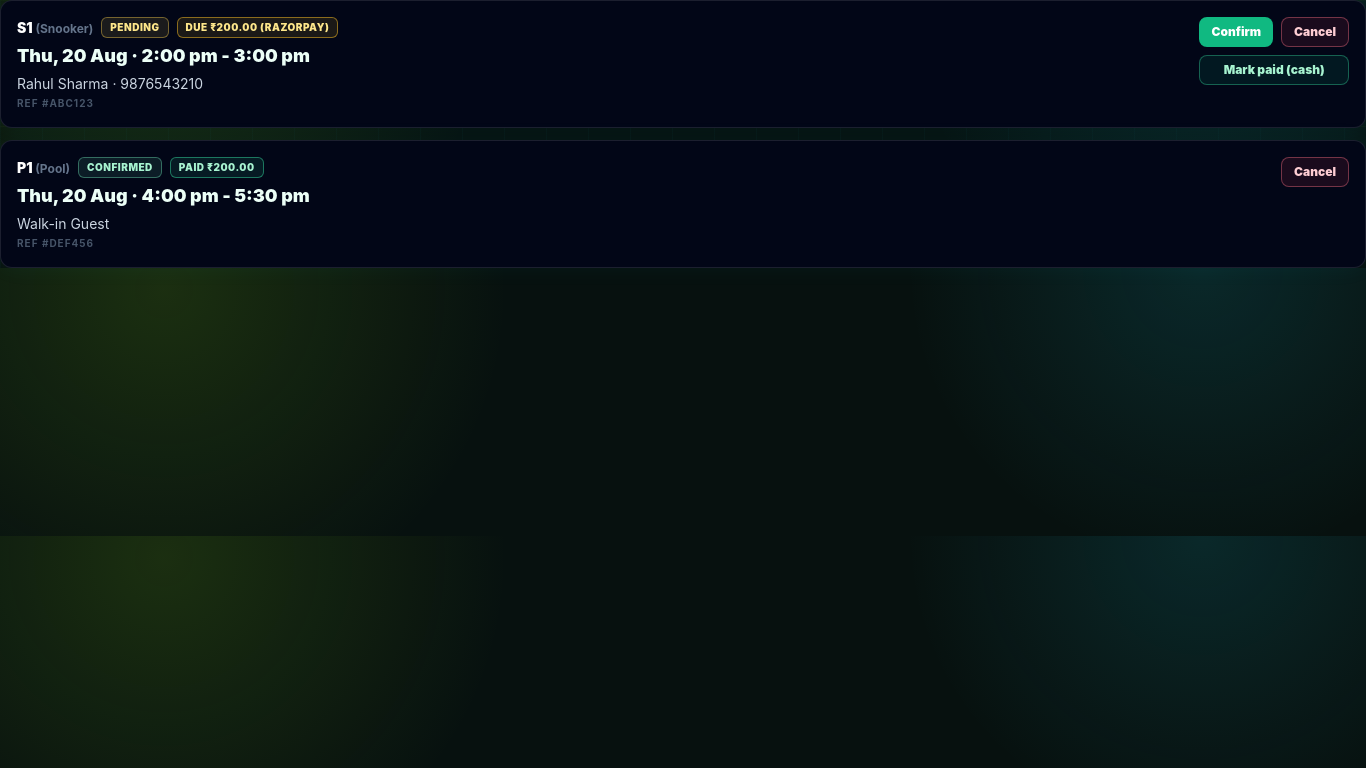
StaffBookingsPanel › shows message after action completes
The width and height of the screenshot is (1366, 768).
Click the button "Confirm": (1236, 32) x1=1199 y1=17 x2=1273 y2=47
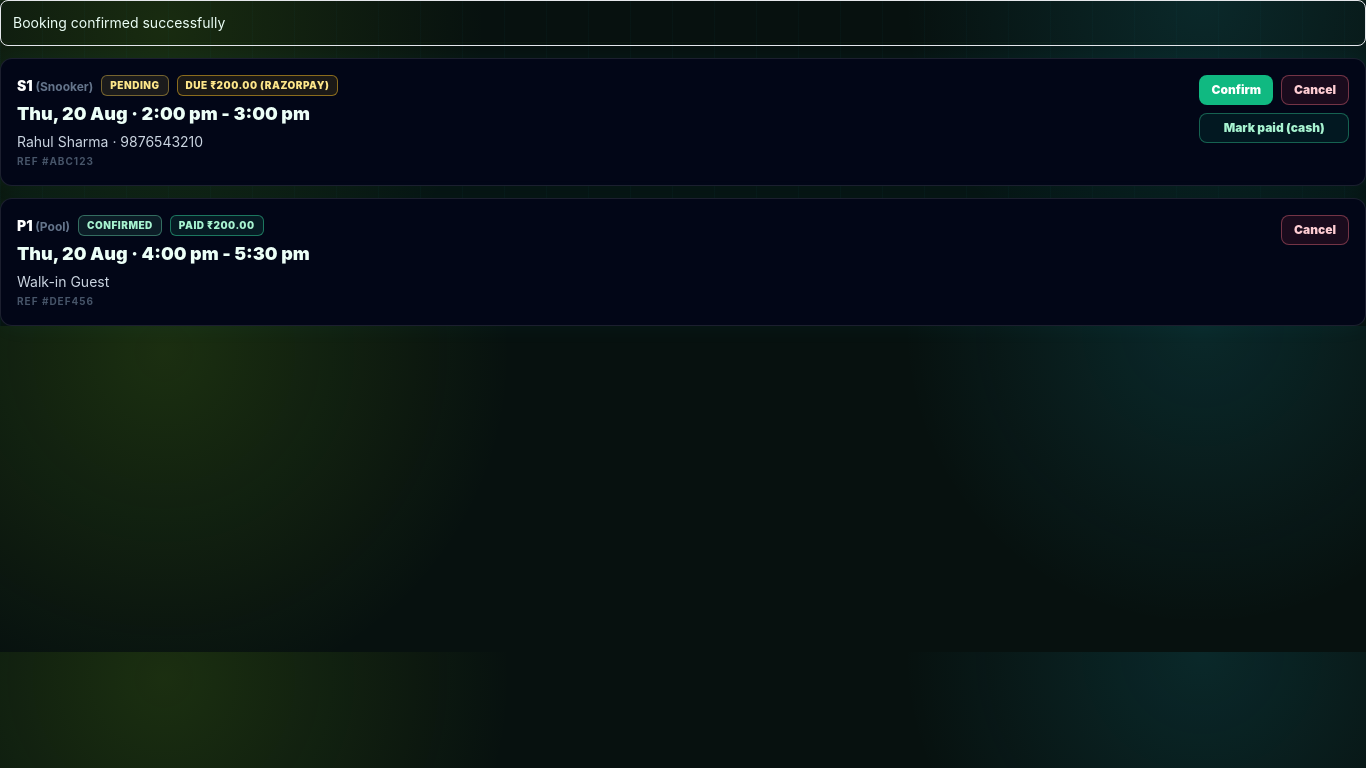
Expected: the text "Booking confirmed successfully" is shown, x1=0 y1=0 x2=1365 y2=46
